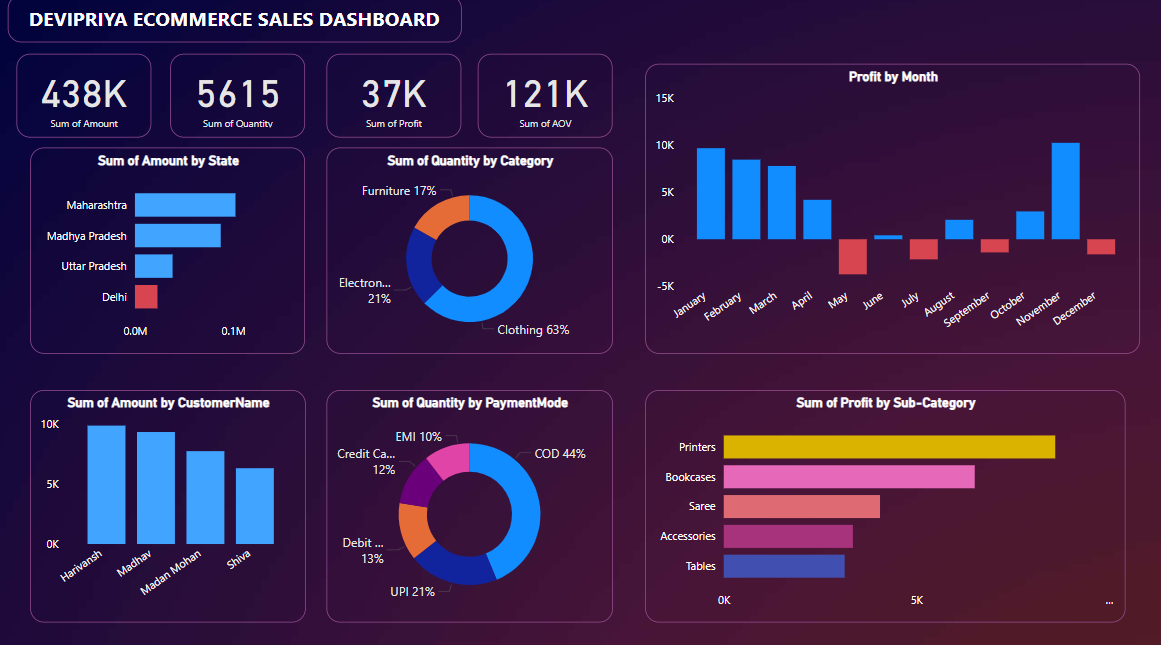

This screenshot's page, from the dashboard's own definition file:
{"tool":"powerbi","page":{"name":"Page 1","canvas":[1280,720],"ordinal":0},"visuals":[{"type":"textbox","box":[9.6,0,498.1,52.1],"z":0},{"type":"lineStackedColumnComboChart","title":"Profit by Month","fields":{"Category":["Orders.Order Date.Variation.Date Hierarchy.Month"],"Y":["Details.Profit"]},"box":[709.4,75.5,543.4,318.4],"z":1000},{"type":"barChart","fields":{"Category":["Details.Sub-Category"],"Y":["Details.Profit"]},"box":[709.4,433.6,526.9,255.2],"z":2000},{"type":"donutChart","fields":{"Category":["Details.Category"],"Y":["Details.Quantity"]},"box":[359.5,167.4,314.2,226.4],"z":3000},{"type":"donutChart","fields":{"Y":["Details.Quantity"],"Category":["Details.PaymentMode"]},"box":[359.5,433.6,314.2,255.2],"z":4000},{"type":"card","fields":{"Values":["Details.Amount"]},"box":[19.2,64.5,148.2,91.9],"z":5000},{"type":"card","fields":{"Values":["Details.Quantity"]},"box":[188,64.5,148.2,91.9],"z":6000},{"type":"card","fields":{"Values":["Details.Profit"]},"box":[359.5,64.5,148.2,91.9],"z":7000},{"type":"card","fields":{"Values":["Details.AOV"]},"box":[525.6,64.5,148.2,91.9],"z":8000},{"type":"barChart","fields":{"Category":["Orders.State"],"Y":["Details.Amount"]},"box":[34.3,167.4,301.9,226.4],"z":9000},{"type":"columnChart","fields":{"Category":["Orders.CustomerName"],"Y":["Details.Amount"]},"box":[34,434,302,255],"z":10000}]}

Visuals, with their boxes in screenshot pixels (x1, y1, x2, y2), scaled from the page's 1280x720 canvas onto the 1161x645 screenshot:
textbox: <region>9, 0, 460, 47</region>
"Profit by Month" lineStackedColumnComboChart: <region>643, 68, 1136, 353</region>
barChart - Details.Sub-Category x Details.Profit: <region>643, 388, 1121, 617</region>
donutChart - Details.Category x Details.Quantity: <region>326, 150, 611, 353</region>
donutChart - Details.Quantity x Details.PaymentMode: <region>326, 388, 611, 617</region>
card - Details.Amount: <region>17, 58, 152, 140</region>
card - Details.Quantity: <region>171, 58, 305, 140</region>
card - Details.Profit: <region>326, 58, 460, 140</region>
card - Details.AOV: <region>477, 58, 611, 140</region>
barChart - Orders.State x Details.Amount: <region>31, 150, 305, 353</region>
columnChart - Orders.CustomerName x Details.Amount: <region>31, 389, 305, 617</region>
